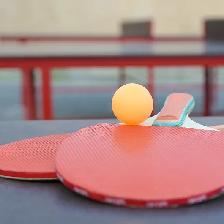YellowBall: (110, 83, 153, 124)
